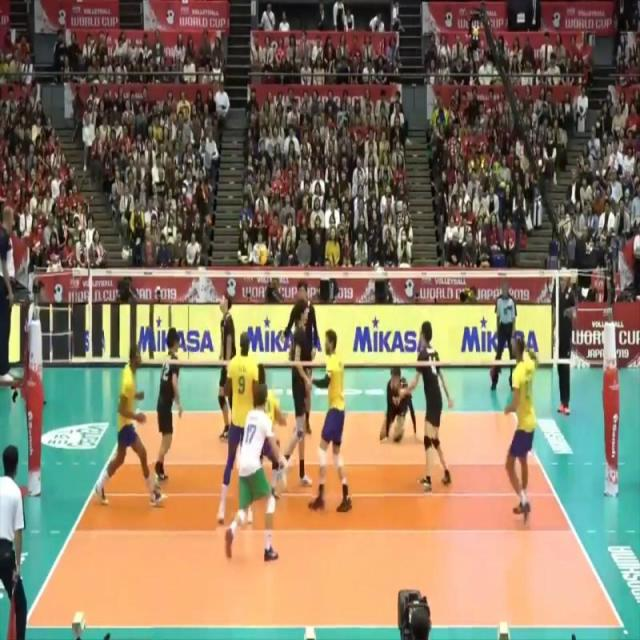volleyball: (254, 241, 271, 269)
